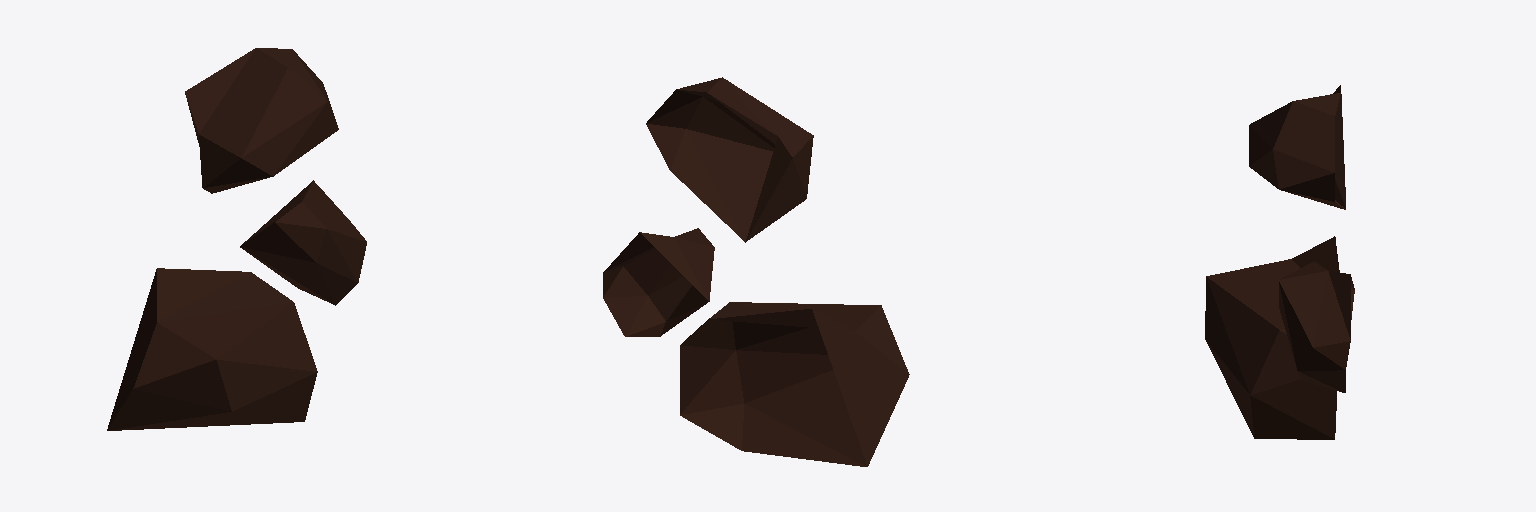
Rendered from rock_2.obj.
3 renders of one model, left to right at view 1: azimuth 30°, elevation 25°; view 2: azimuth 150°, elevation 25°; view 3: azimuth 270°, elevation 25°, orthographic.
Visible parts, largest first — view 1: Cylinder.007; view 2: Cylinder.007; view 3: Cylinder.007.
Part boxes in pixels (bbox=[...]): Cylinder.007: bbox=[107, 48, 366, 430]; Cylinder.007: bbox=[603, 77, 909, 466]; Cylinder.007: bbox=[1205, 85, 1354, 439].
Bounding box in the file's own units: 0.9086 × 1.17 × 0.4461.